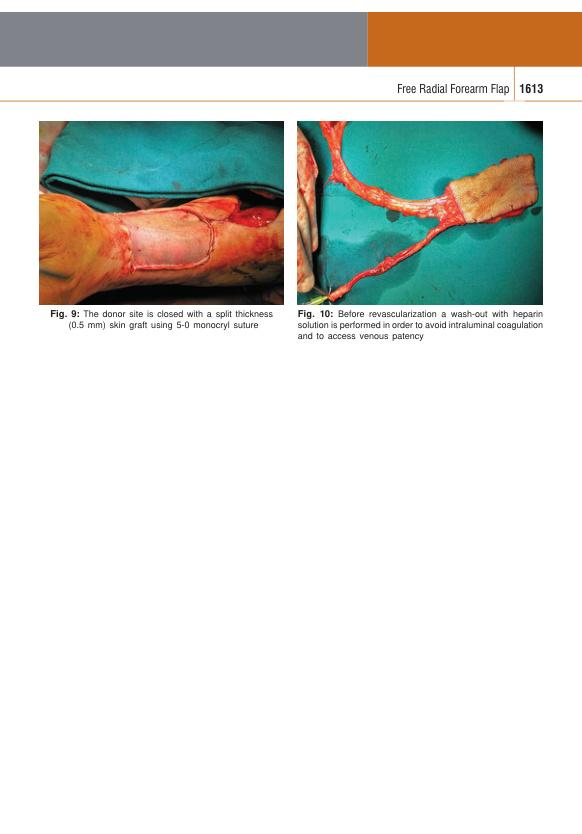caption: (297, 308, 544, 342), (49, 308, 274, 331)
header: (396, 82, 510, 96)
image: (38, 119, 286, 307), (296, 119, 544, 306)
